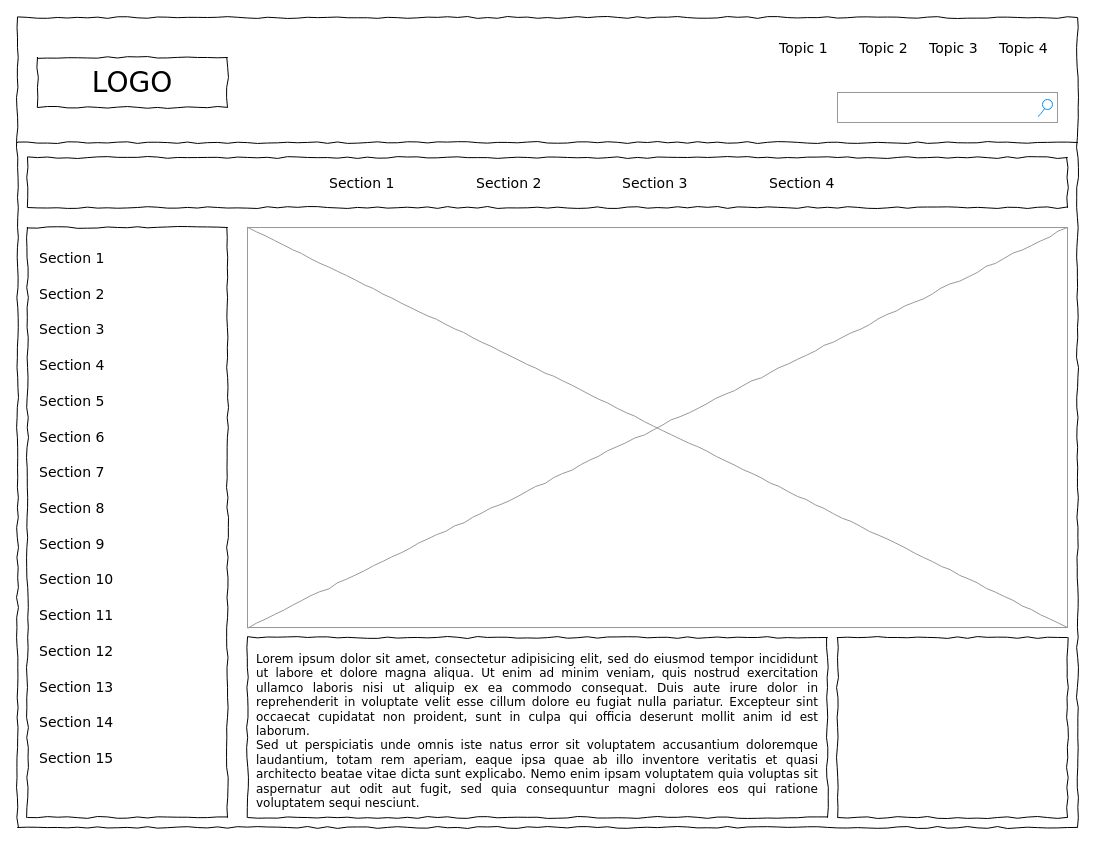
The diagram is 1095 pixels wide and 845 high, and some of its shapes have lost their labels. Here are the shapes that lost their labels. From the top down, the centre of each, then its label:
At [947,107]: "Search".
At [952,727]: "External Links".
